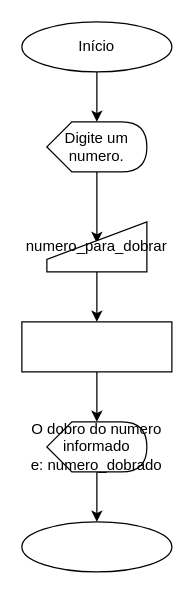
The diagram is 194 pixels wide and 594 high, and some of its shapes have lost their labels. The box of each missing label's shape, as (x1, y1, x2, y2) in pixels:
Fim: (21, 521, 172, 572)
numero_dobrado <- numero_para_dobrar * 2: (21, 321, 172, 372)
